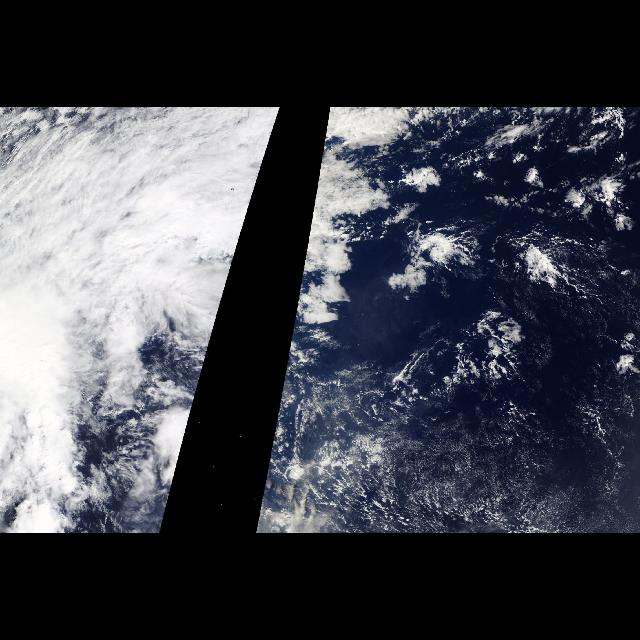Flower: (391, 116, 639, 330)
Sugar: (271, 367, 639, 533)
